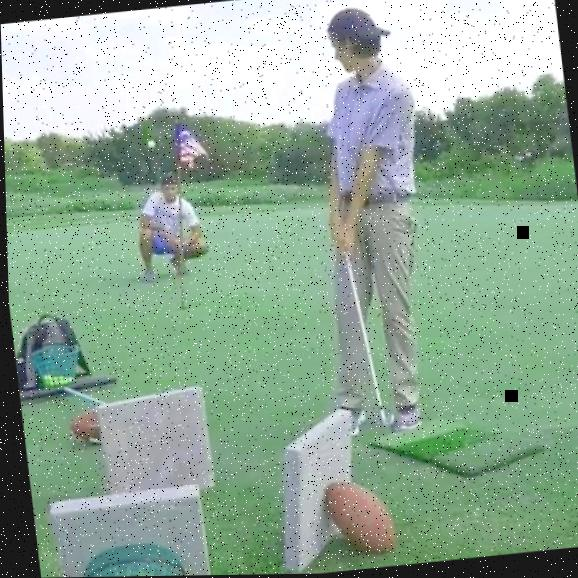ClubHead: (379, 416, 392, 429)
